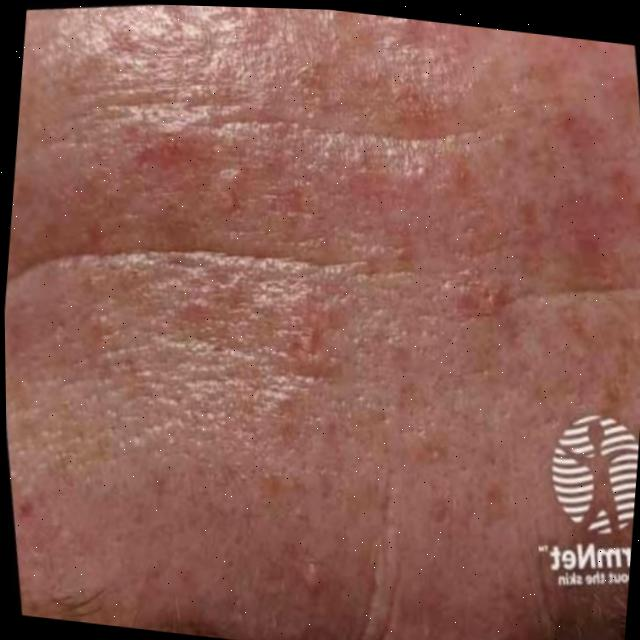Eczema: (59, 79, 571, 561)
